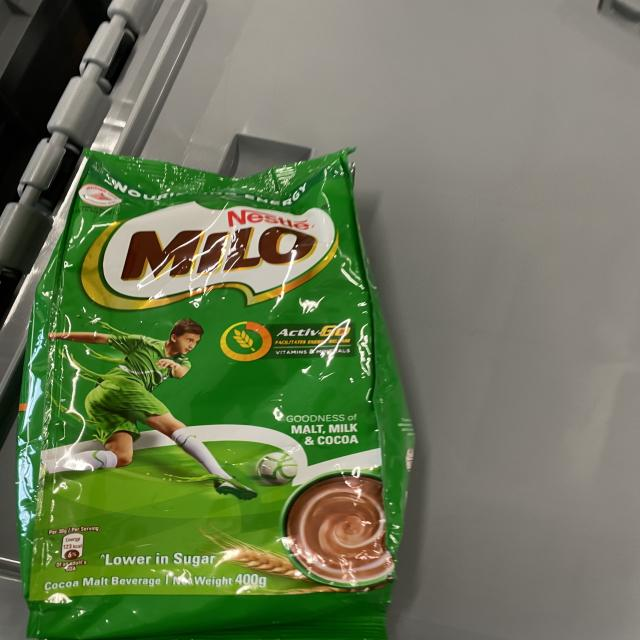object_name: (50, 157, 384, 634)
